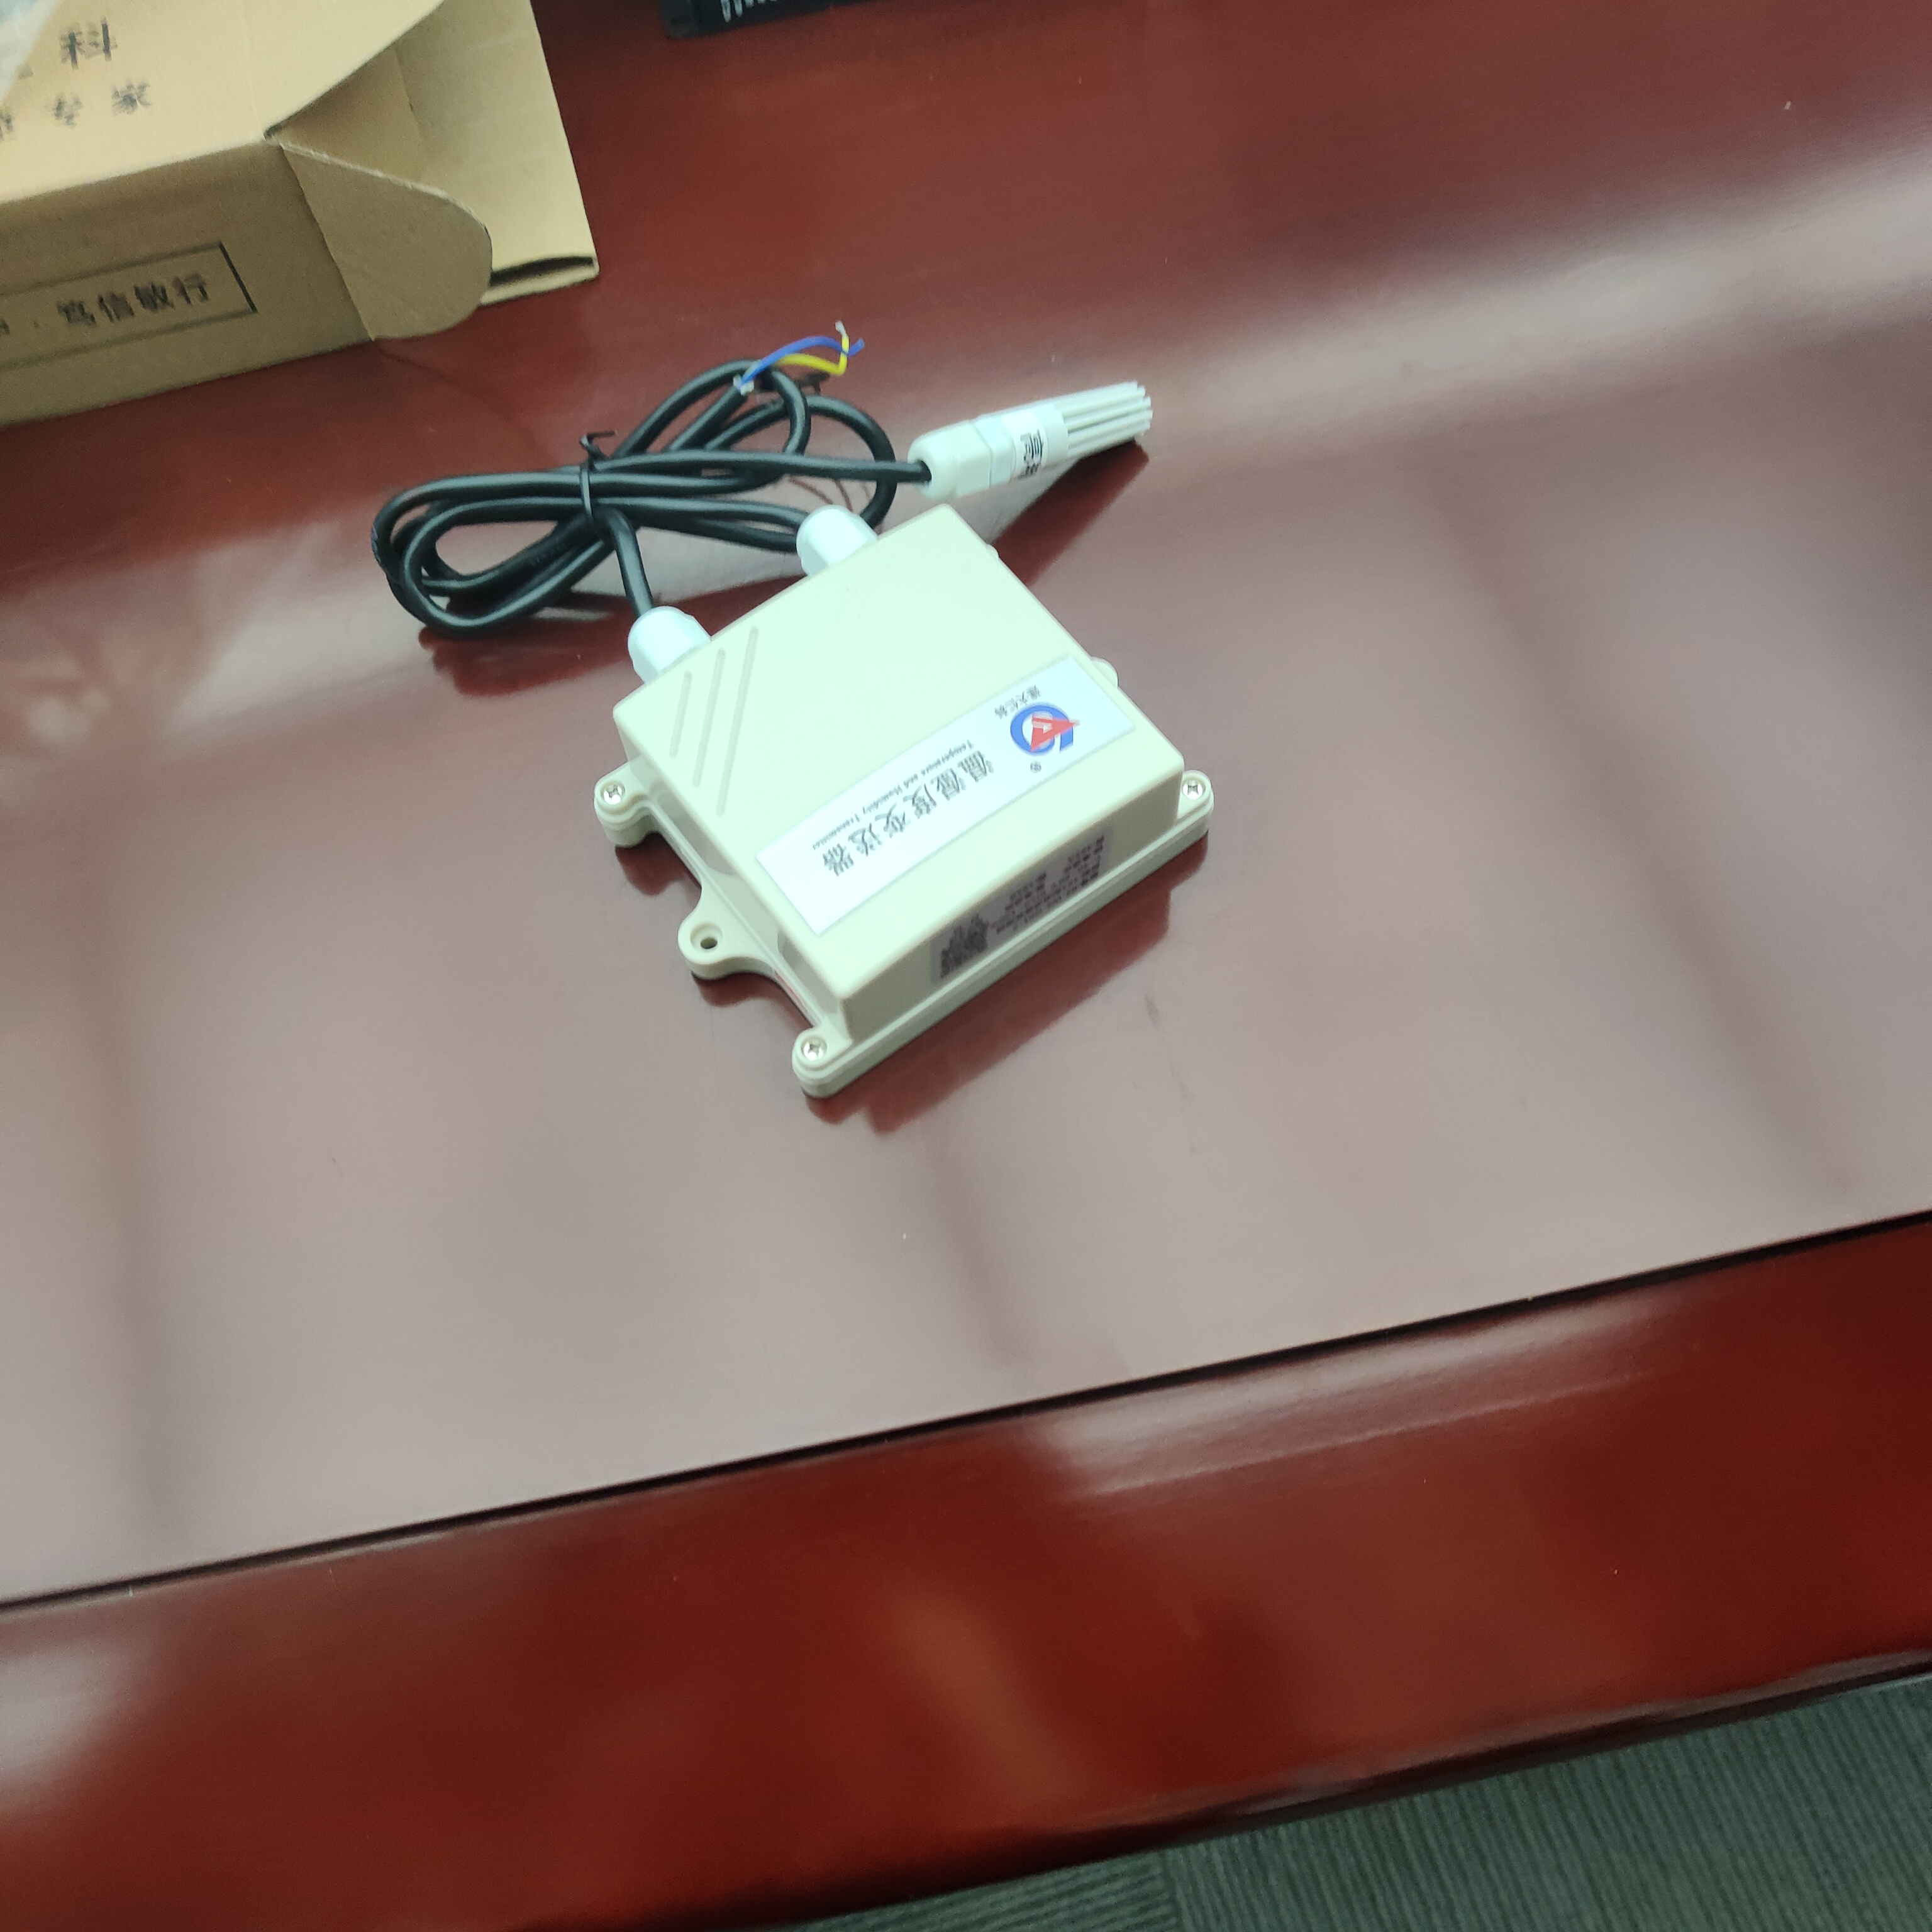wsdbsq: (541, 511, 1244, 1092)
